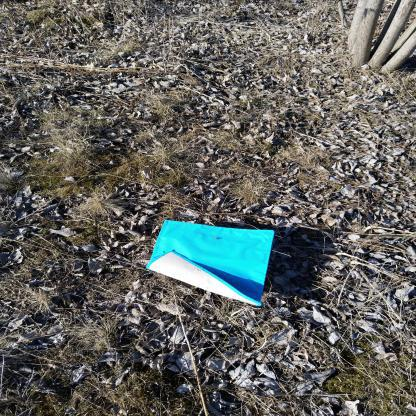diger: (147, 221, 276, 307)
